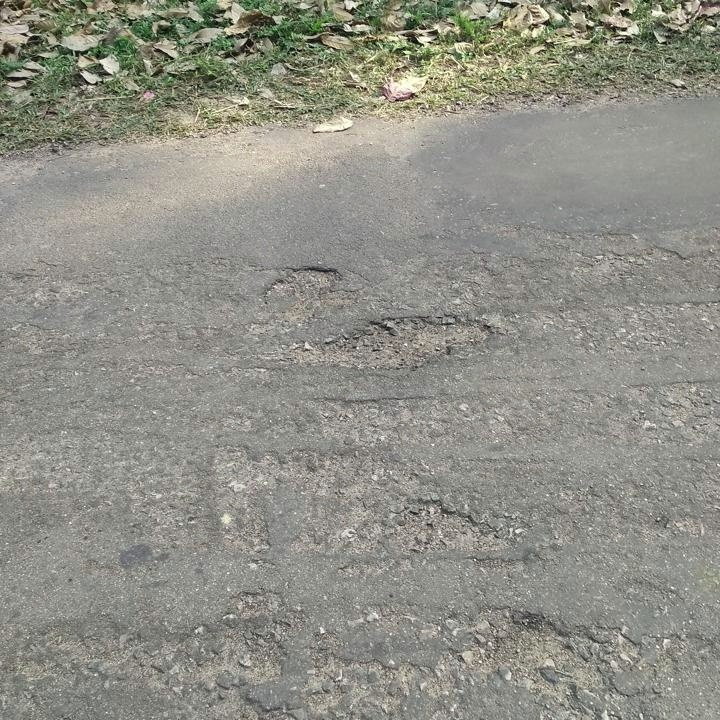pothole: (307, 312, 494, 368), (469, 605, 583, 690), (383, 494, 506, 553), (199, 628, 288, 682), (260, 261, 342, 305)
